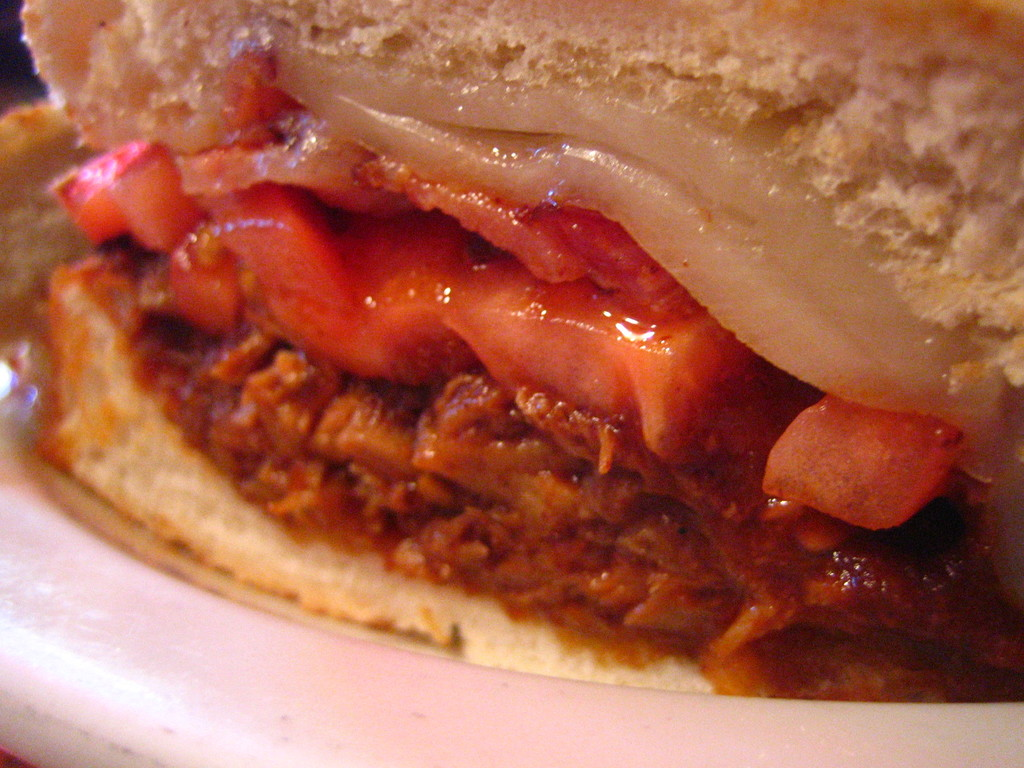sandwich: (0, 0, 1023, 703)
